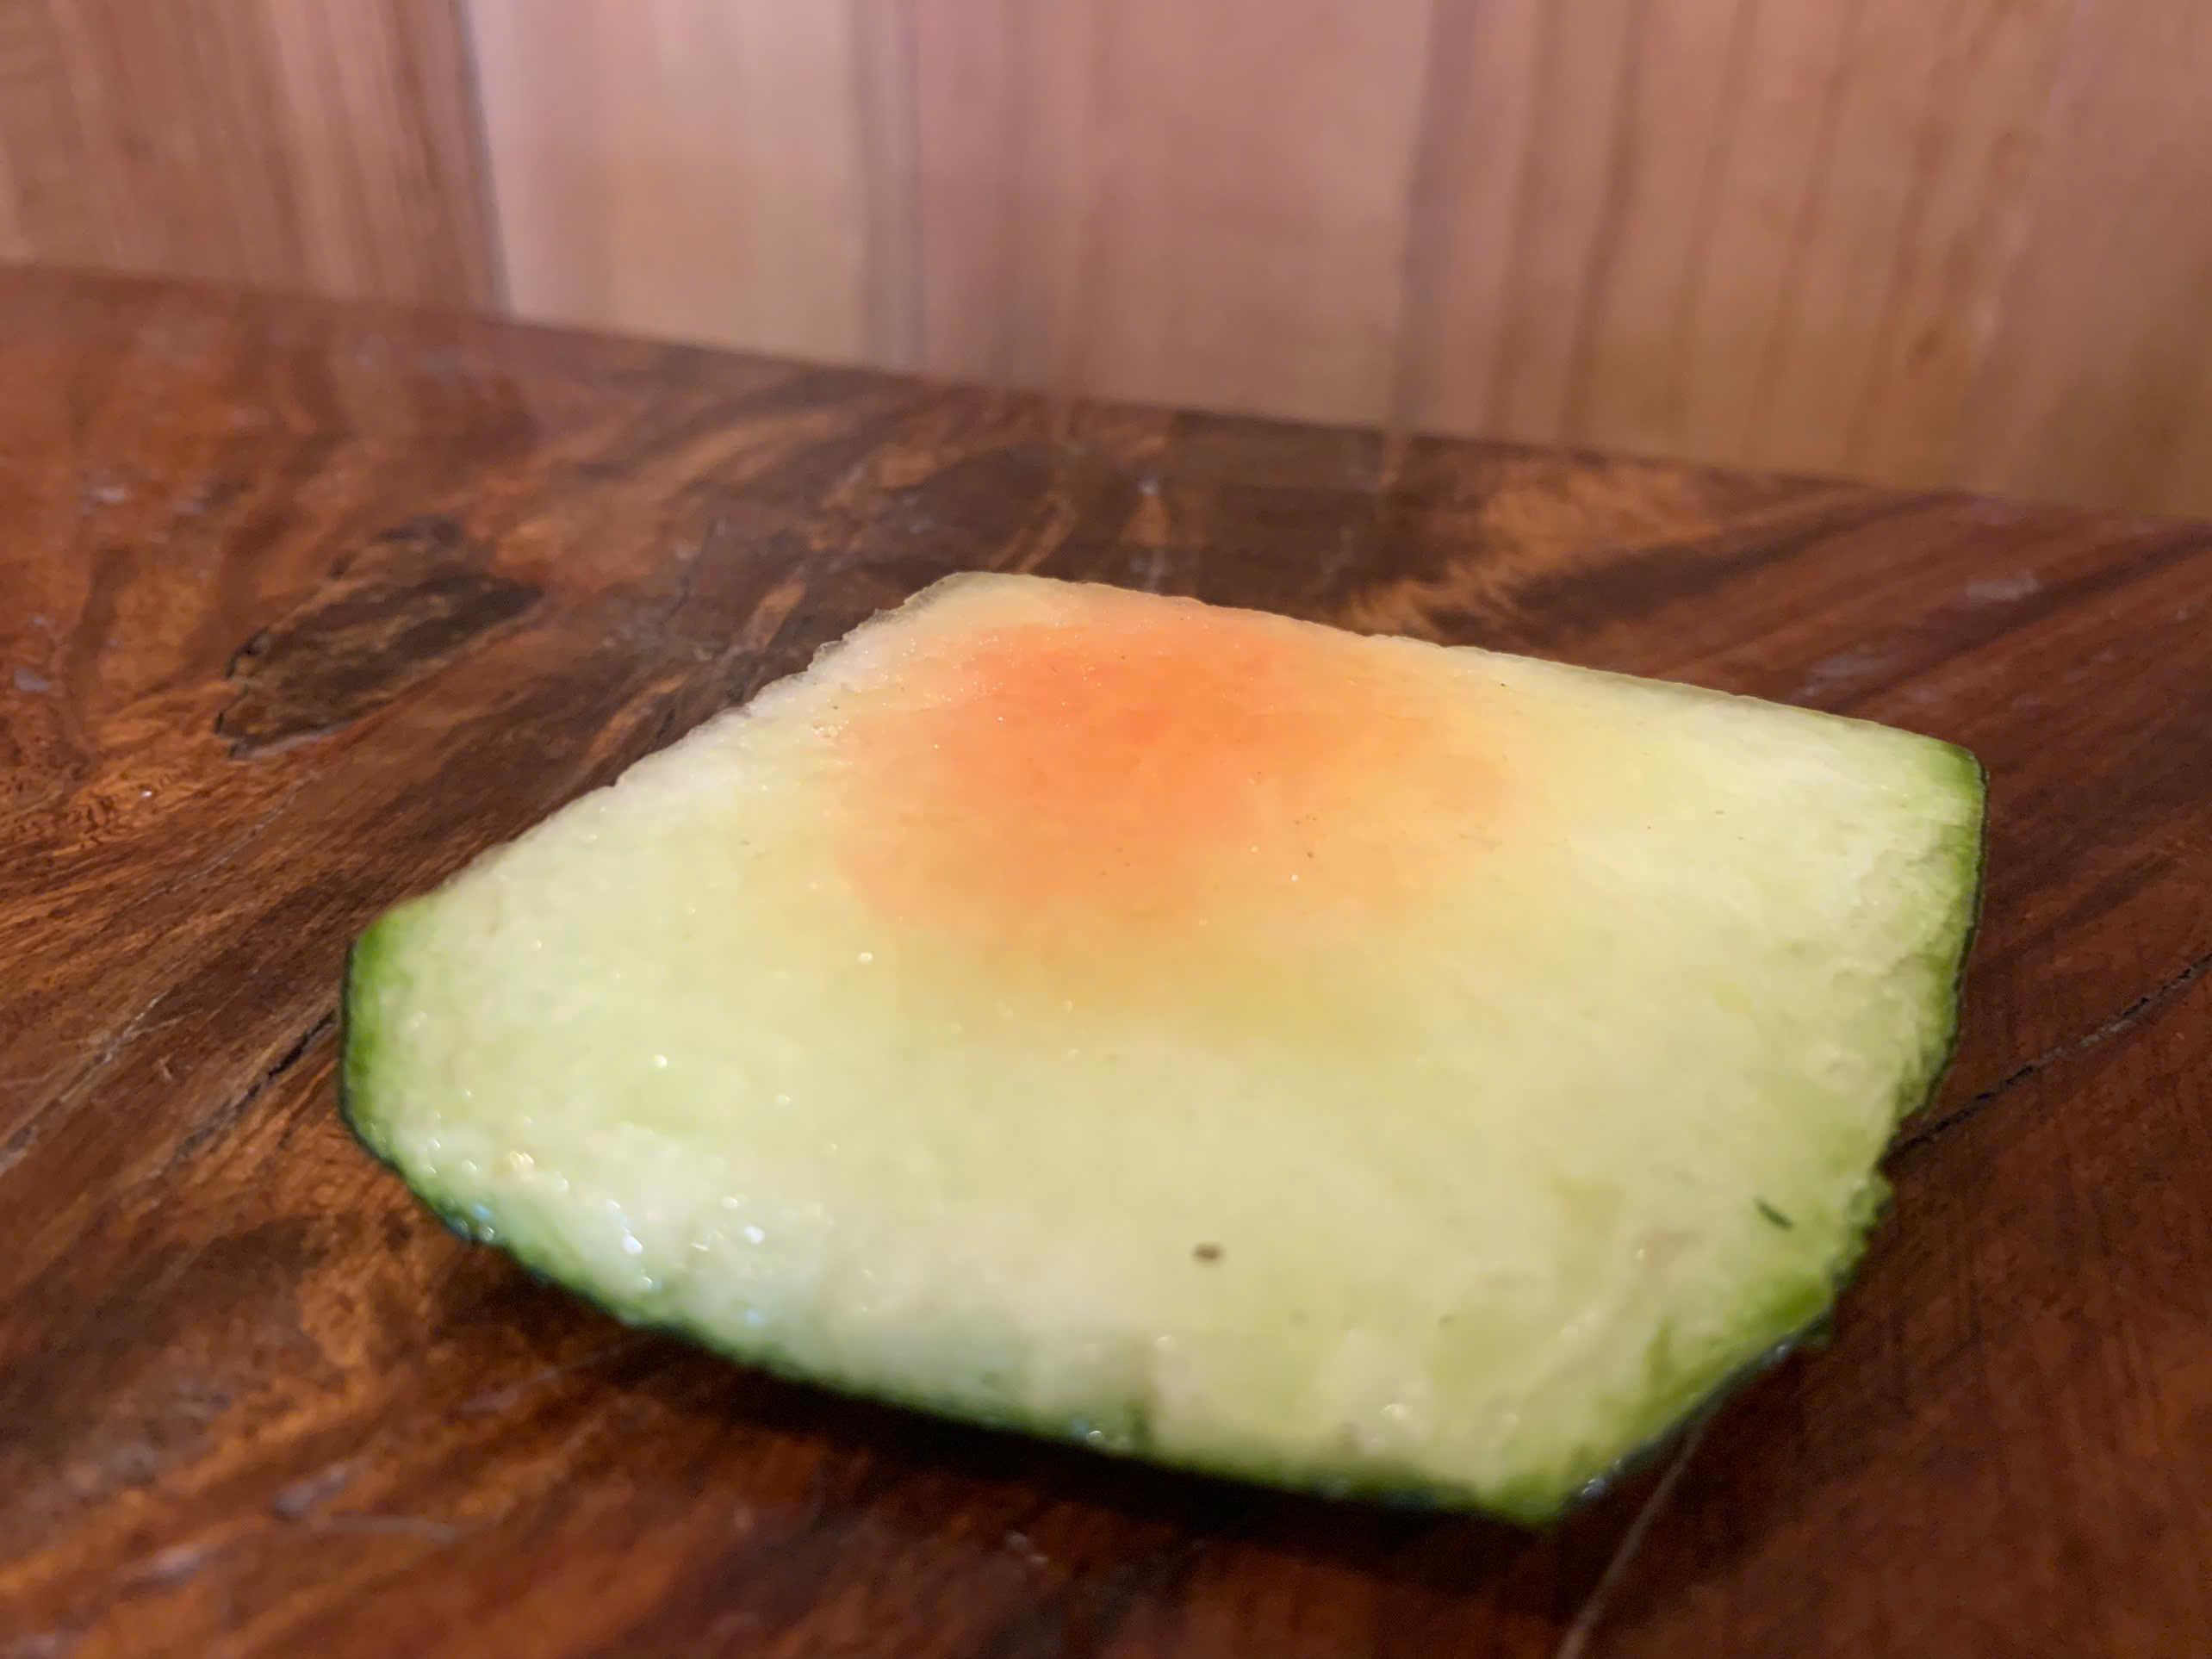Huu co: (347, 570, 1958, 1499)
